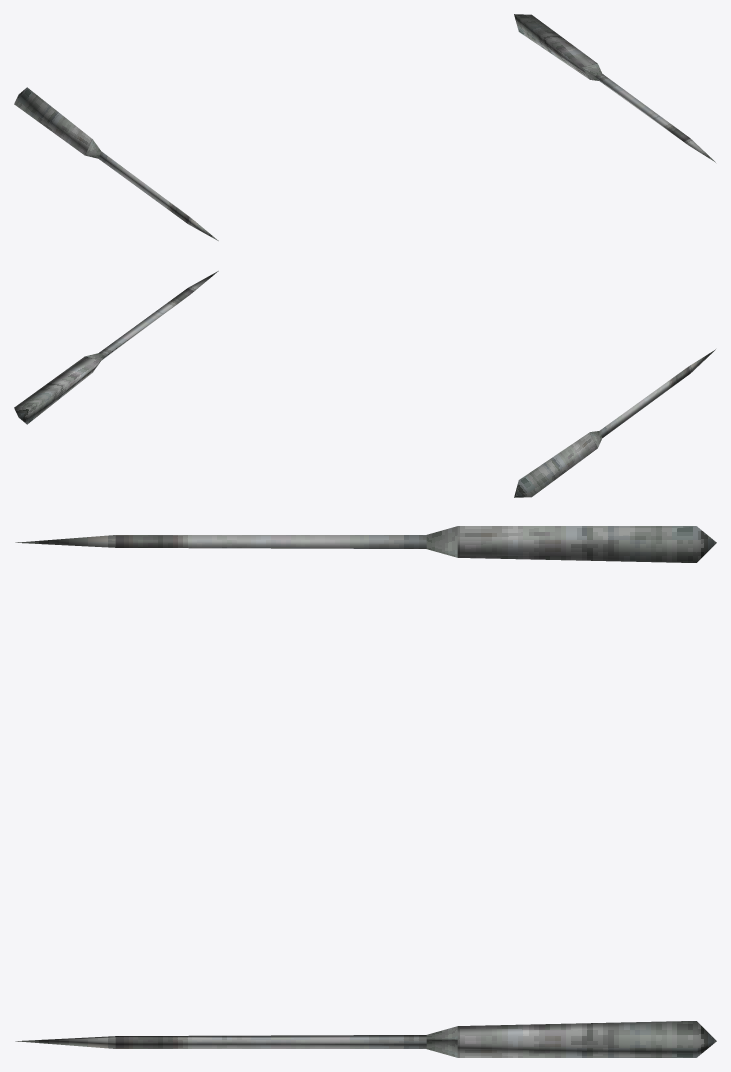
The model's file is xwing_weapon1_pos_s05_l3.fbx.
3 views of the same model, one above another, from view 1: azimuth 30°, elevation 25°; view 2: azimuth 150°, elevation 25°; view 3: azimuth 270°, elevation 25° (orthographic). The views are drawn at different scales.
Visible parts, largest first — view 1: mesh_node; view 2: mesh_node; view 3: mesh_node.
Part boxes in pixels (<box>): mesh_node: <box>14,14,715,240</box>; mesh_node: <box>14,271,715,497</box>; mesh_node: <box>15,526,716,1057</box>.
Size of the model in its own units: 12.96 by 1.54 by 8.72.
1 material, 1 textured.
